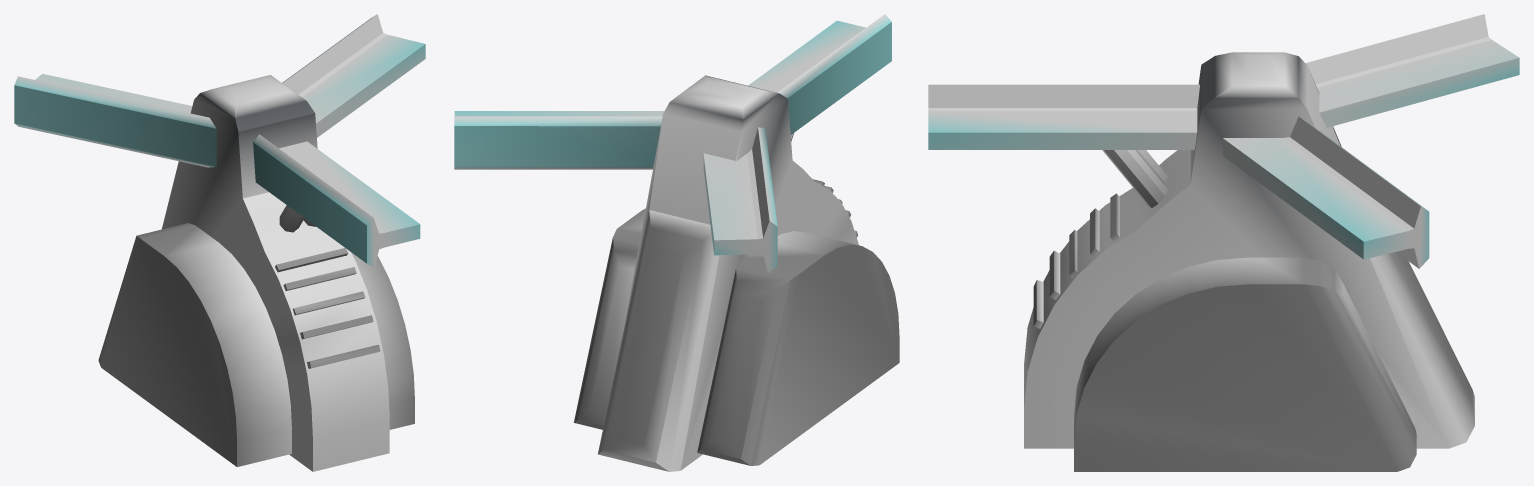
File: wifi.fbx
3 renders of one model, left to right at view 1: azimuth 30°, elevation 25°; view 2: azimuth 150°, elevation 25°; view 3: azimuth 270°, elevation 25°, orthographic. The views are drawn at different scales.
Parts seen in each view (by area): view 1: Cube.001; view 2: Cube.001; view 3: Cube.001.
Boxes of the visible parts, box(x1,y1,x2,y2) form: Cube.001: box(14, 14, 425, 471); Cube.001: box(454, 14, 899, 471); Cube.001: box(928, 14, 1519, 471).
Size of the model in its own units: 1563 by 1247 by 1857.
